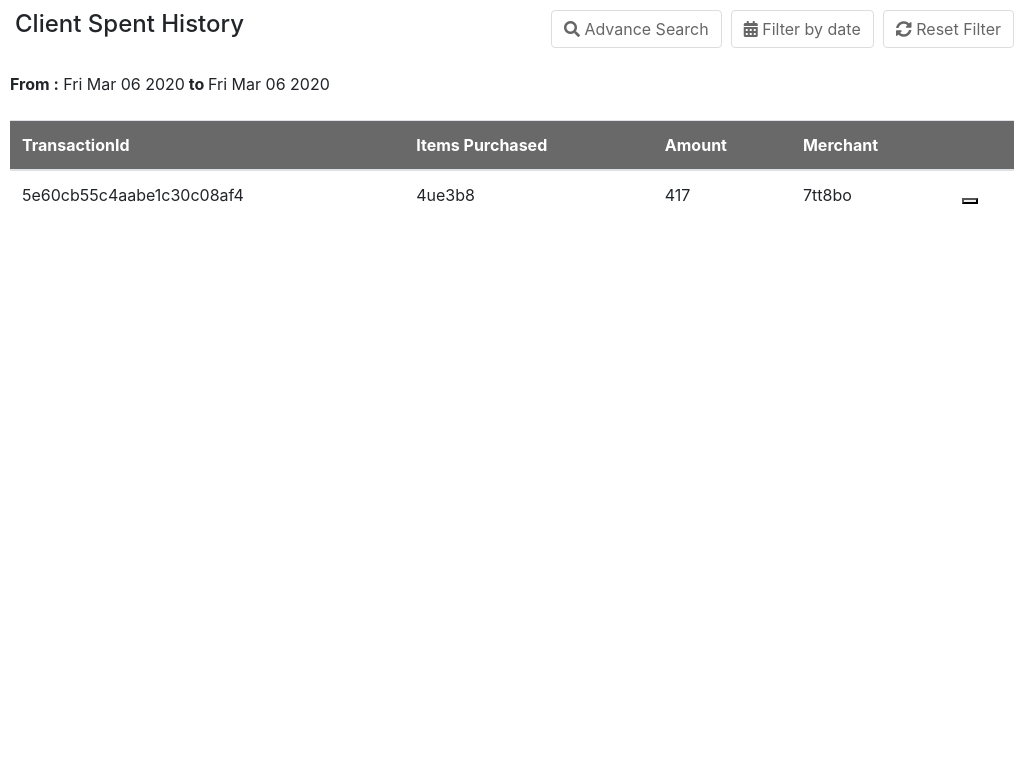
Test: SpentHistory › should open date filter modal
This screenshot has width=1024, height=768.
What coordinates should you click on to do the following:
click the button with test id "toggledatefilter"
I would click on:
 (802, 29)
Its box is left=731, top=10, right=874, bottom=48.
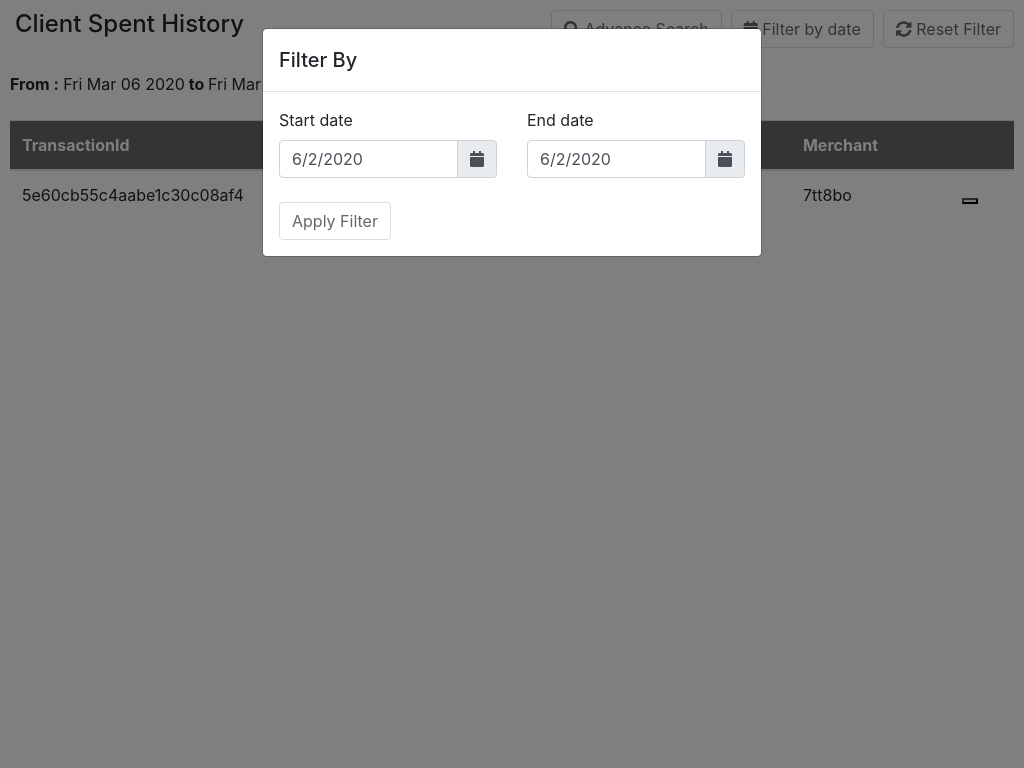
Result: the element with test id "datefilter" is shown at left=262, top=28, right=762, bottom=257
